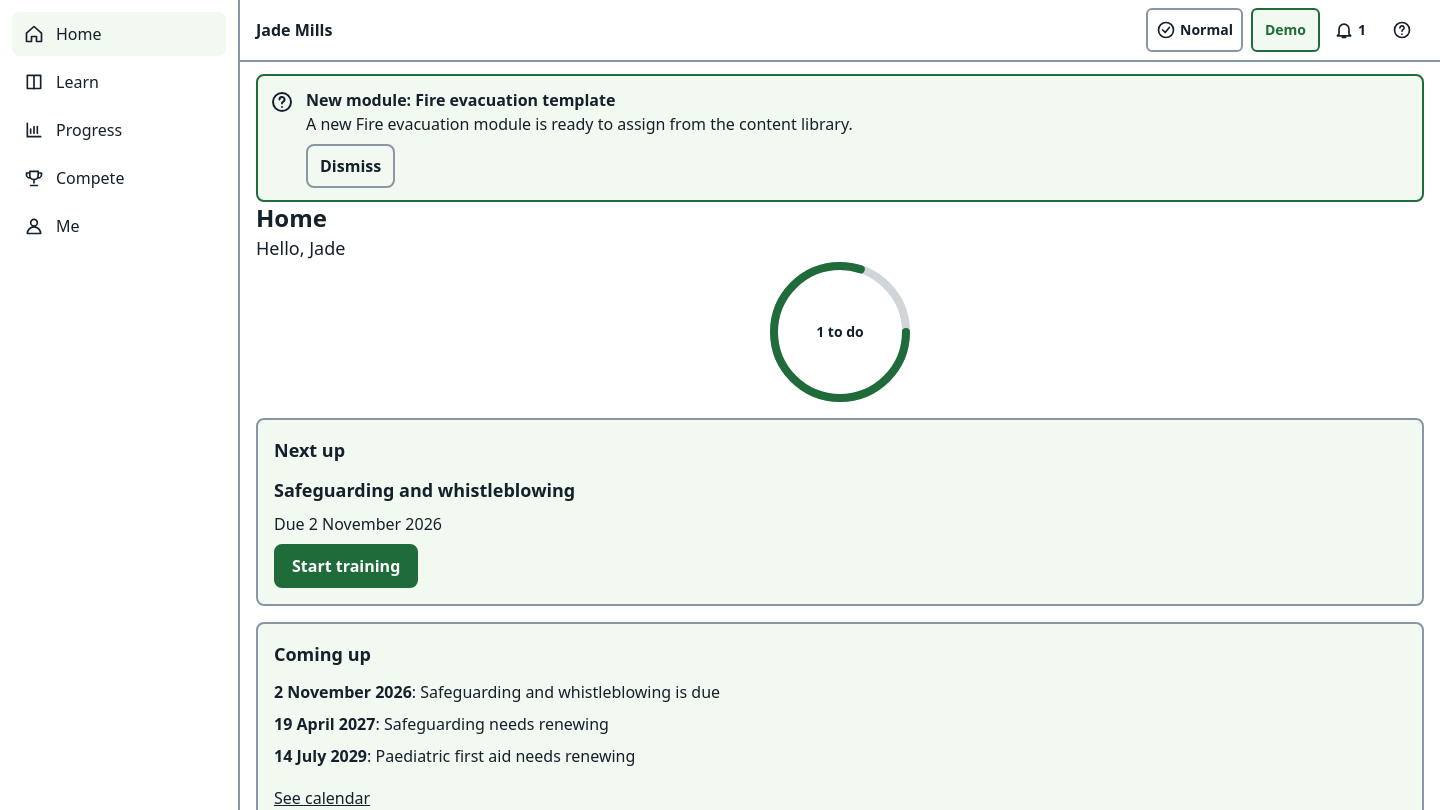
Test: staff shell navigation › clicking a tab navigates
This screenshot has width=1440, height=810.
Click the link "Progress" at (73, 130), box [24,119,122,141]
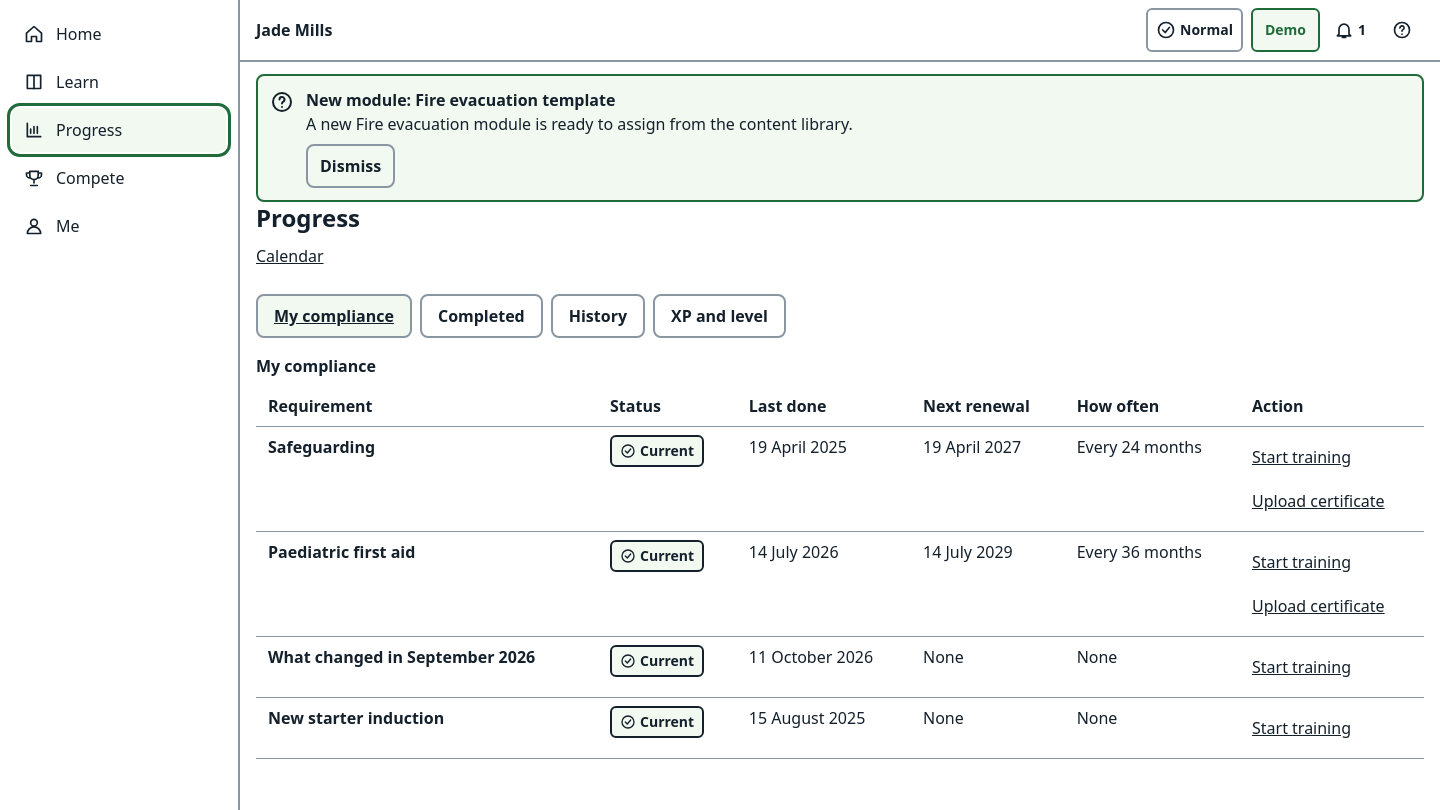
Now the heading "Progress" is shown, box [256,202,360,234]
